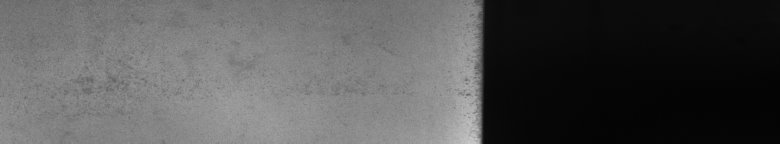ib: (58, 15, 147, 96)
